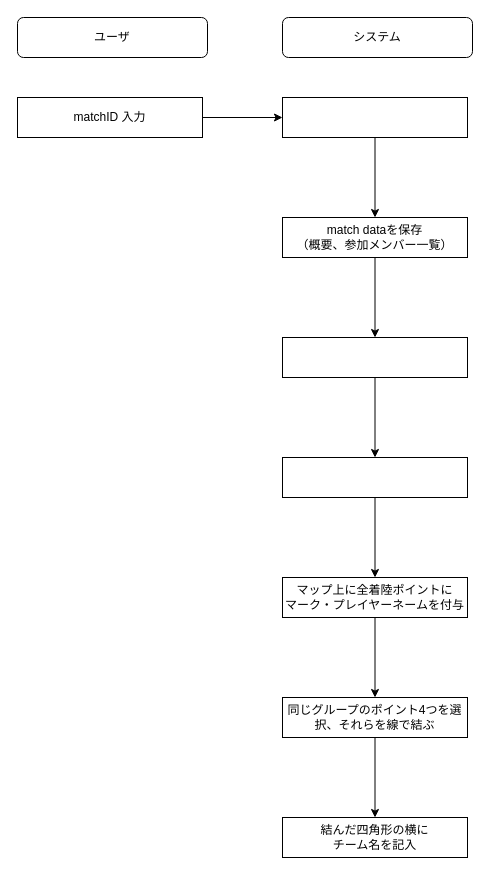
Image size: 490x875. Some labels were removed from this diagram. The shapes that lost their labels are listed below. From the top down, each one's box as (x1, y1, x2, y2) in pixels, then its label:
(282, 96, 468, 138): matchID からteremetry特定
(282, 336, 468, 378): telemetry.jsonをダウンロード
(282, 456, 468, 498): telemetry.eventから 「log_parachute_landing」を抽出
